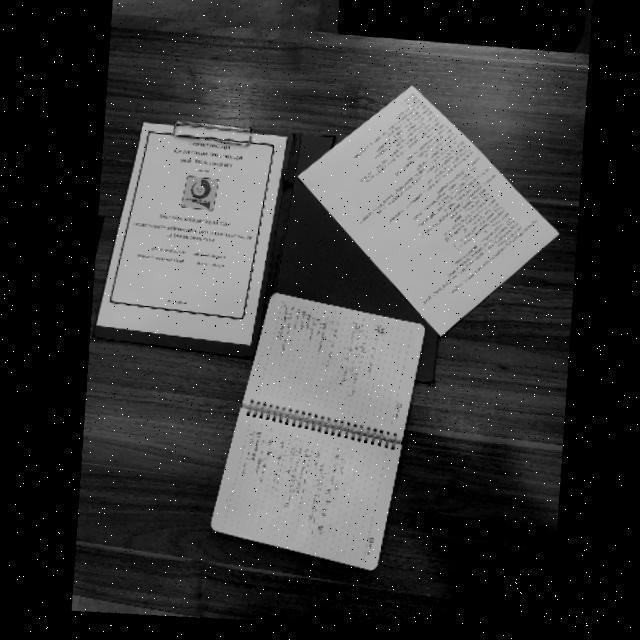document: (297, 84, 559, 336), (207, 292, 426, 571), (96, 122, 287, 345)
